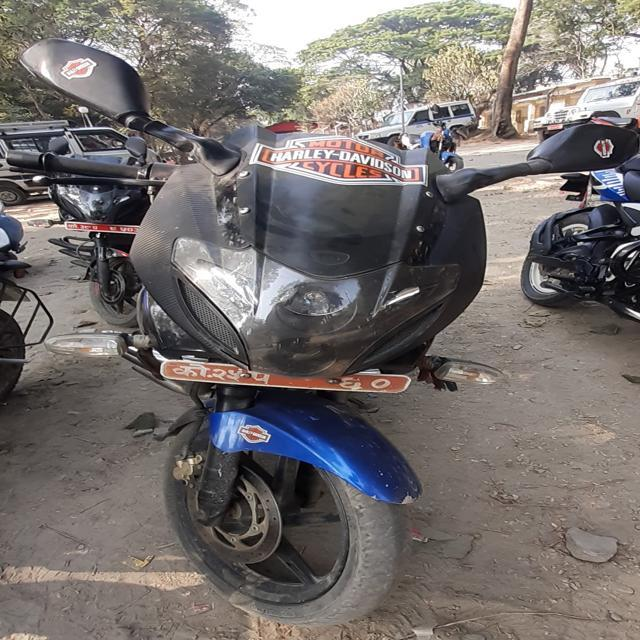license_plate: (138, 340, 453, 409)
